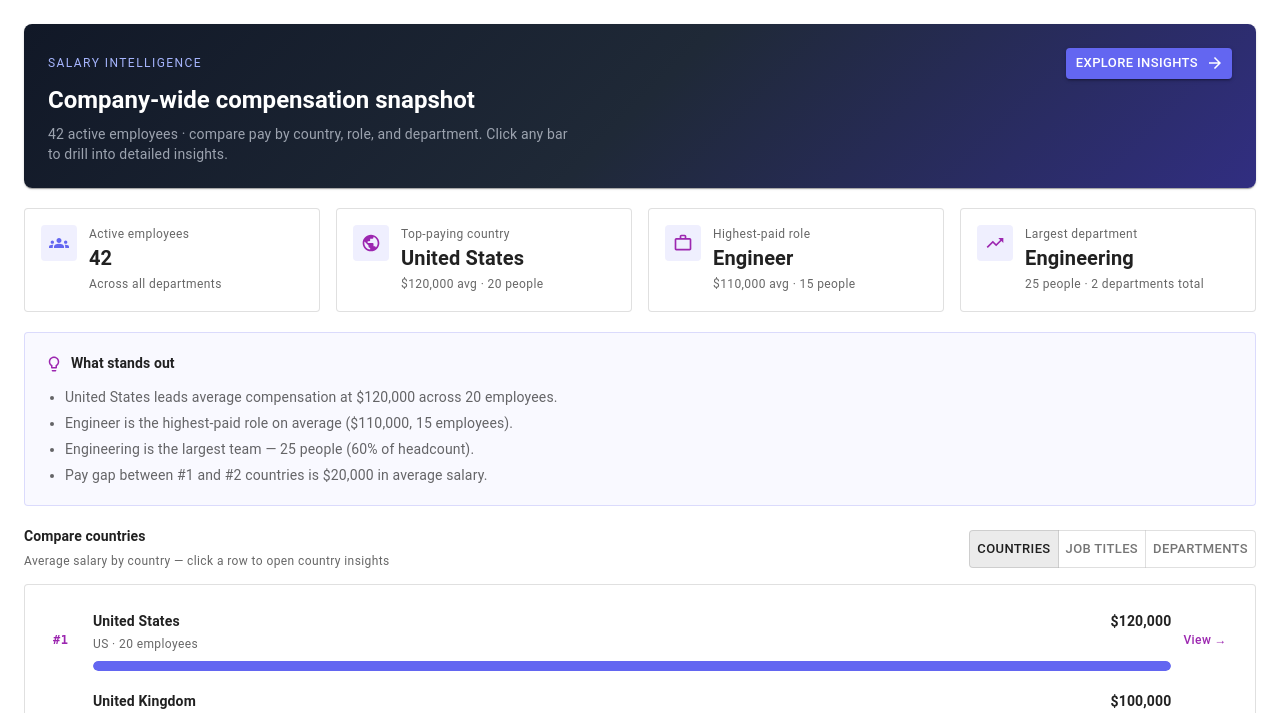
Scenario: DashboardPage › switches to job titles view when tab is clicked
The image size is (1280, 713).
Check: the button "Countries" is shown, box x1=969 y1=530 x2=1059 y2=568
What coordinates should you click on to do the following:
click the button "Job titles"
I would click on:
 (1102, 549)
Its box is x1=1058 y1=530 x2=1146 y2=568.
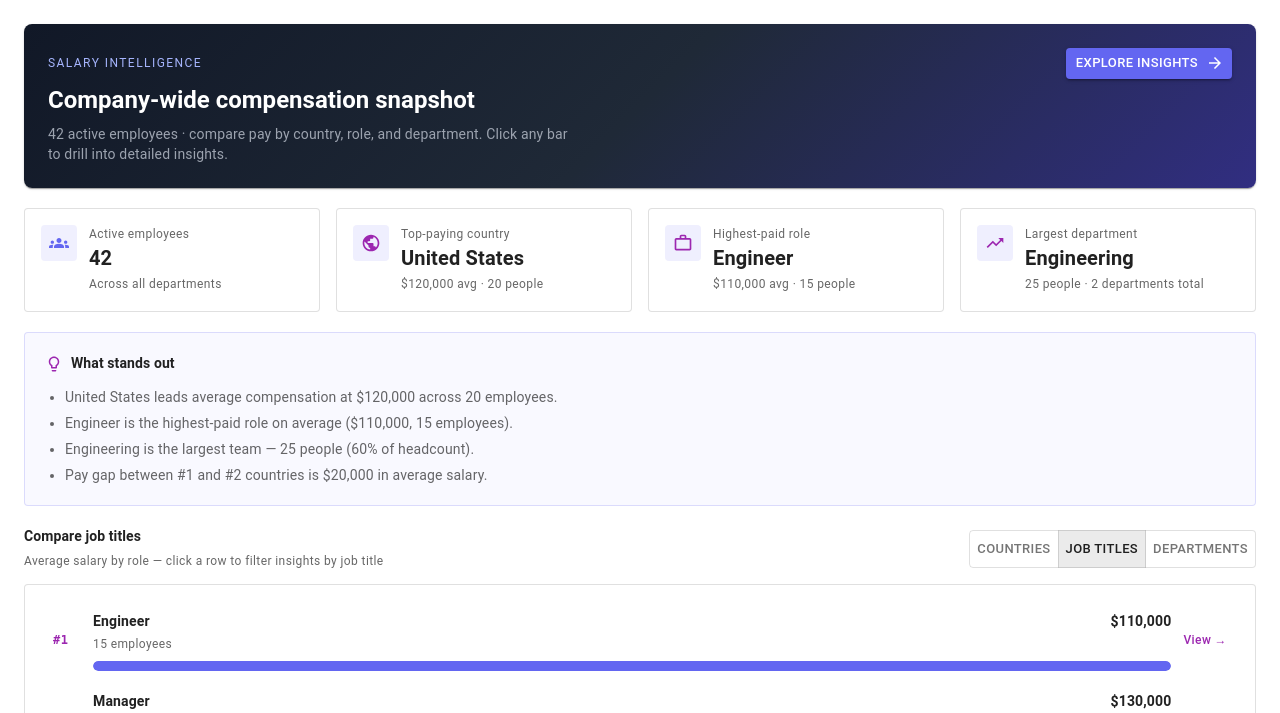
Check: the heading "Engineer" is shown, box x1=713 y1=246 x2=794 y2=270
Check: the text "Manager" is shown, box x1=93 y1=693 x2=150 y2=709
